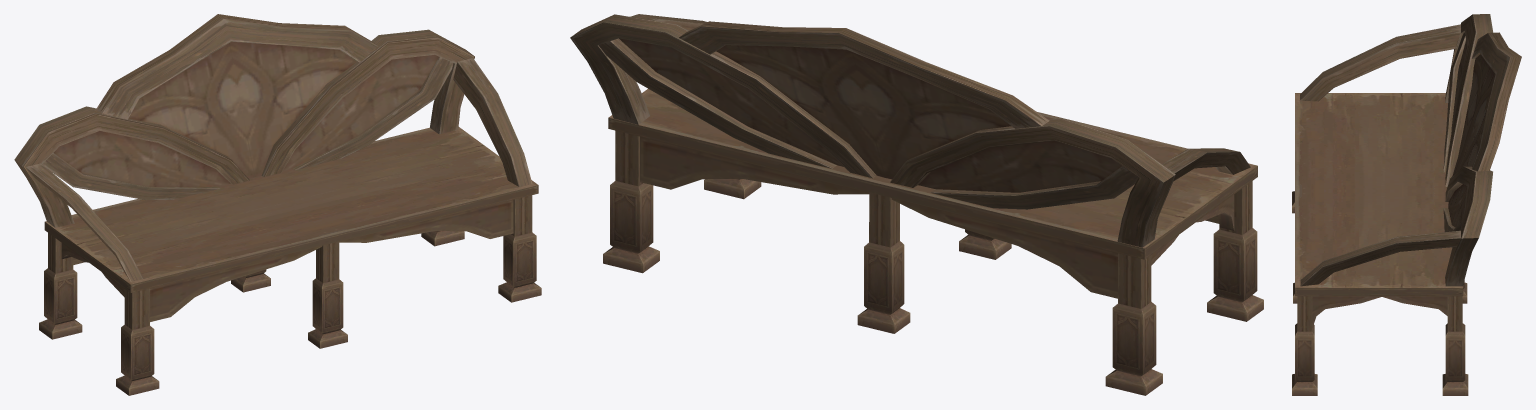
Rendered from Homeworld_Interior_Xm_Chair_Prop_Citybig_01_Vo.fbx.
The picture shows the model from 3 angles, left to right: view 1: azimuth 30°, elevation 25°; view 2: azimuth 150°, elevation 25°; view 3: azimuth 270°, elevation 25°; orthographic projection. The views are drawn at different scales.
Visible parts, largest first — view 1: Area_Xm_Prop_XKC_Chair_01_Lod0; view 2: Area_Xm_Prop_XKC_Chair_01_Lod0; view 3: Area_Xm_Prop_XKC_Chair_01_Lod0.
Part boxes in pixels (bbox=[...]): Area_Xm_Prop_XKC_Chair_01_Lod0: bbox=[14, 14, 541, 395]; Area_Xm_Prop_XKC_Chair_01_Lod0: bbox=[570, 14, 1263, 395]; Area_Xm_Prop_XKC_Chair_01_Lod0: bbox=[1292, 14, 1521, 395].
Size of the model in its own units: 2.16 by 1.12 by 0.9707.
